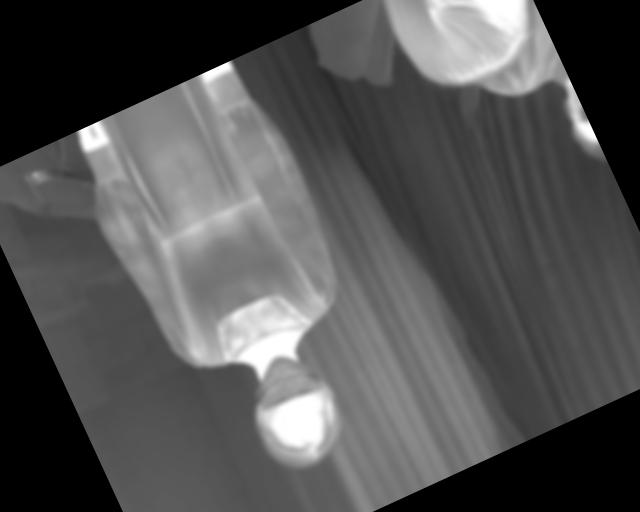face: (228, 338, 359, 483)
